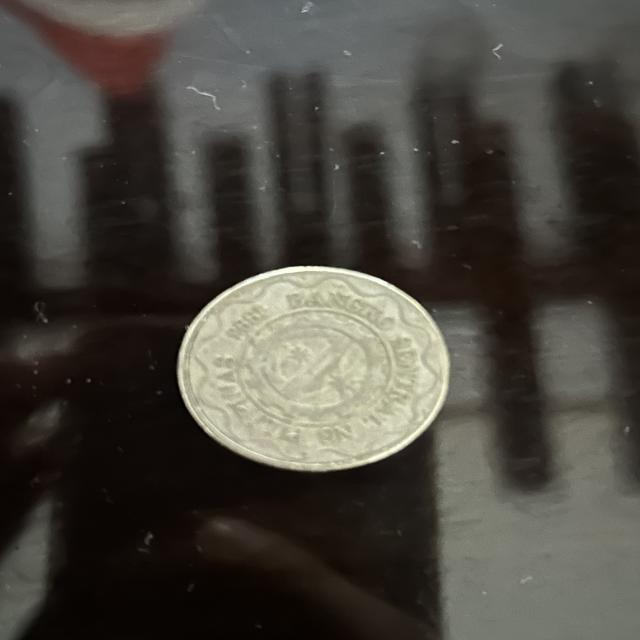5_Old_Back: (204, 280, 422, 450)
